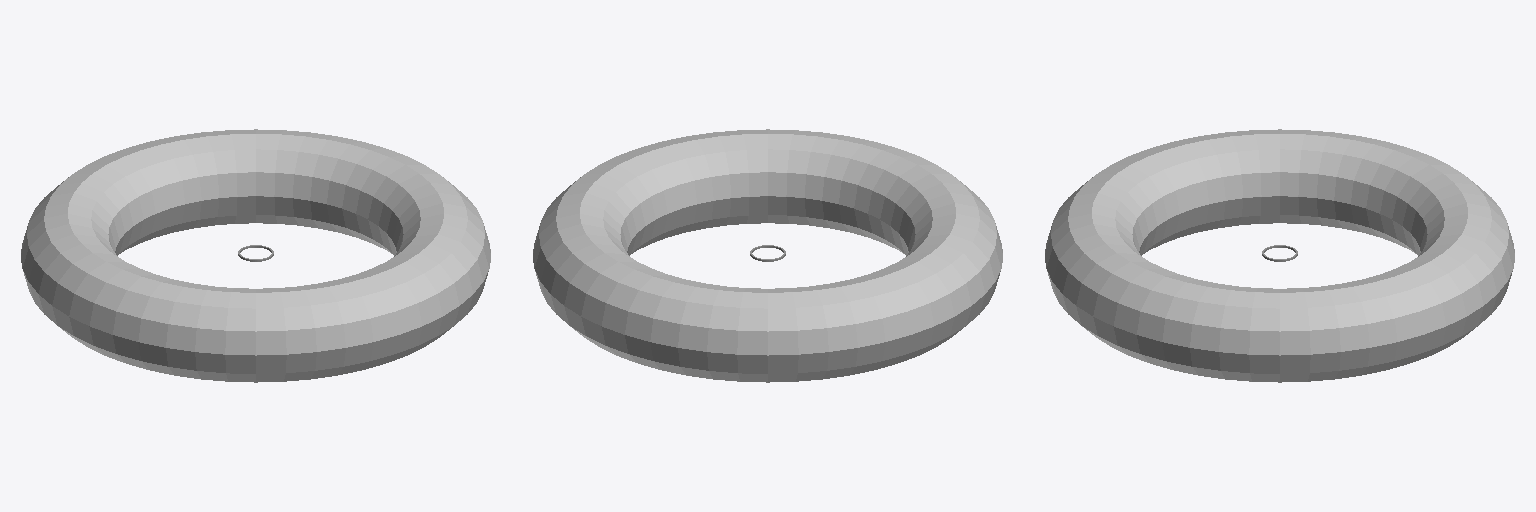
File: Wall.obj
The picture shows the model from 3 angles: view 1: azimuth 30°, elevation 25°; view 2: azimuth 150°, elevation 25°; view 3: azimuth 270°, elevation 25°; orthographic projection.
Parts seen in each view (by area): view 1: Torus; view 2: Torus; view 3: Torus.
Part boxes in pixels (x1,y1,x2,y2): Torus: (21,129,490,382); Torus: (533,129,1002,382); Torus: (1045,129,1514,382).
Size of the model in its own units: 2.5 by 0.5 by 2.5.